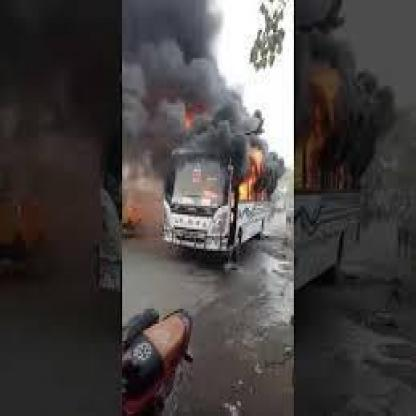smoke: (106, 0, 249, 167), (295, 39, 391, 197), (252, 109, 286, 199)
